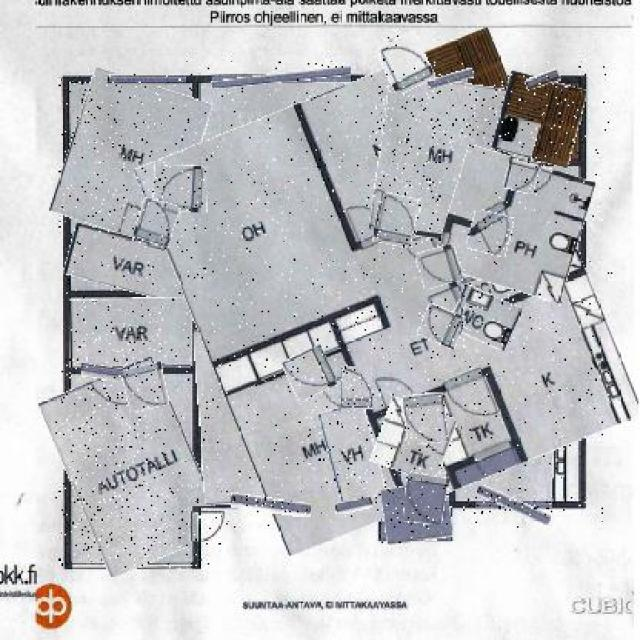door: (382, 34, 431, 91), (154, 166, 208, 212), (286, 349, 336, 398), (376, 195, 418, 248), (124, 363, 168, 412), (404, 394, 448, 443), (406, 474, 449, 524), (136, 200, 178, 246), (470, 212, 512, 255), (417, 246, 461, 286), (420, 306, 463, 346), (188, 506, 228, 546), (342, 366, 376, 409), (504, 157, 538, 192)
window: (474, 491, 552, 517), (211, 70, 351, 84), (231, 496, 311, 516), (109, 75, 186, 88), (428, 71, 474, 86), (80, 365, 123, 380), (526, 70, 560, 88), (336, 498, 372, 512)
zone: (166, 55, 612, 528), (56, 365, 210, 569), (59, 75, 203, 242), (197, 323, 326, 503), (375, 77, 514, 243), (440, 154, 588, 295), (66, 231, 194, 298), (69, 298, 191, 368), (495, 76, 583, 164), (374, 402, 452, 478), (325, 404, 380, 502), (382, 483, 451, 543), (451, 289, 518, 346)
